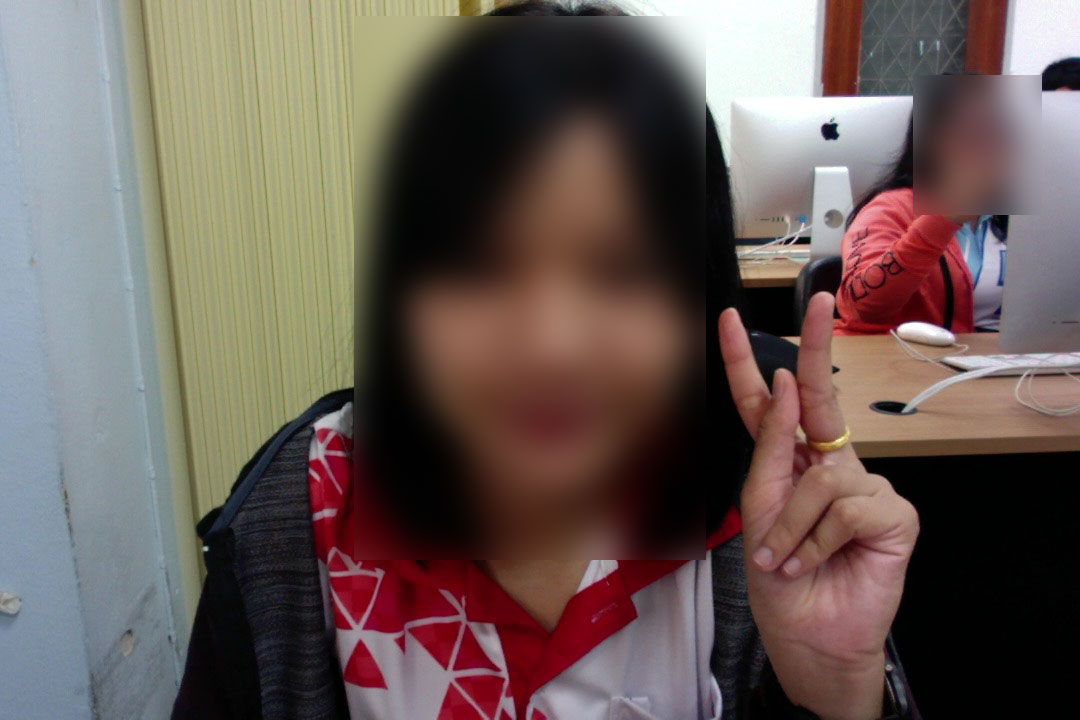ko: (702, 287, 924, 702)
